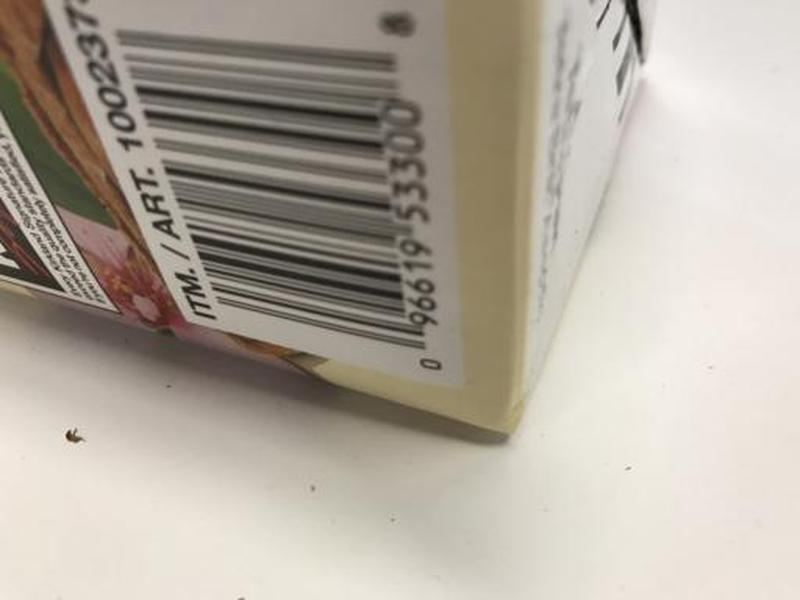cardboard: (4, 2, 659, 447)
